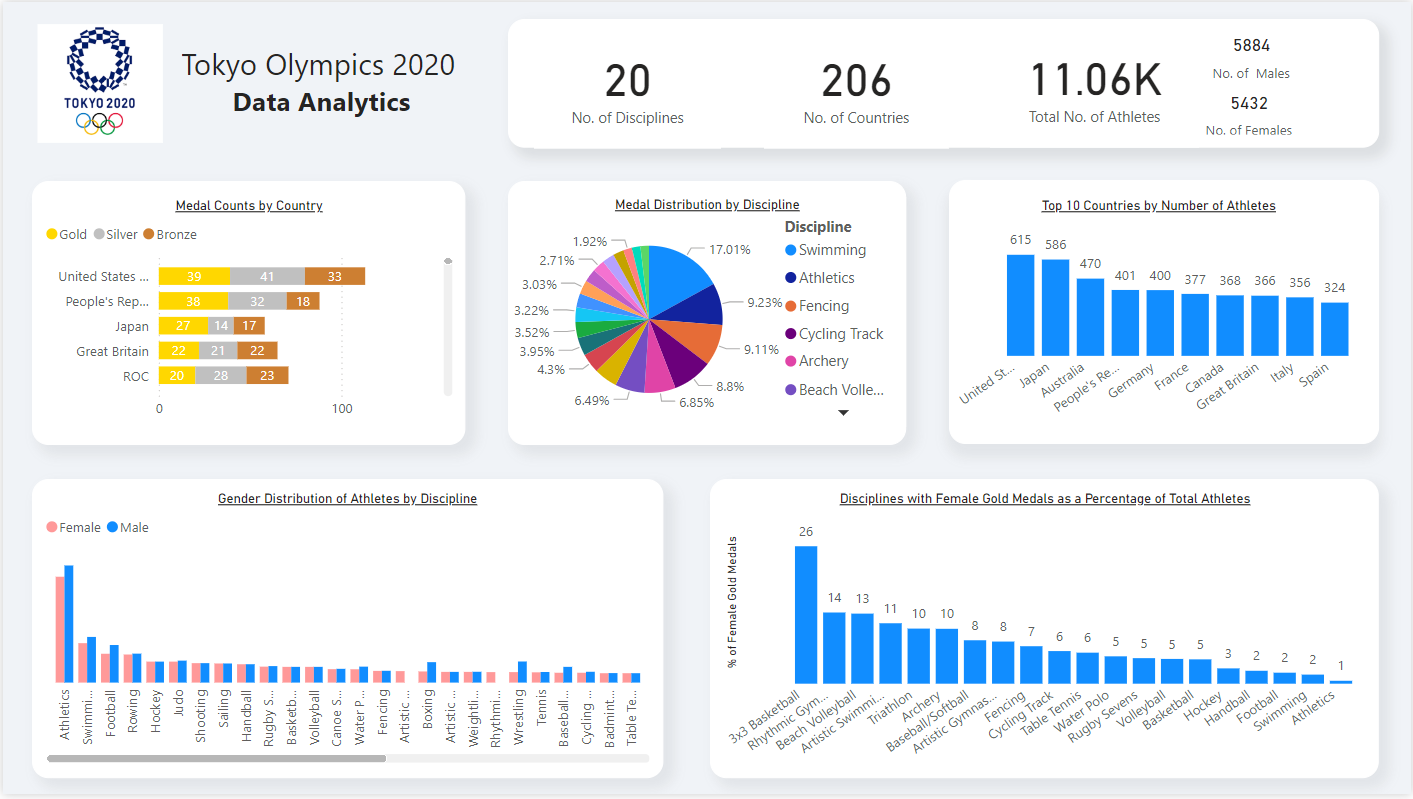

This screenshot's page, from the dashboard's own definition file:
{"tool":"powerbi","page":{"name":"Dashboard","canvas":[1280,720],"ordinal":0},"visuals":[{"type":"shape","box":[458.9,162.5,362.1,240.2],"z":0},{"type":"shape","box":[860.2,162.2,391.1,240.2],"z":1000},{"type":"shape","box":[643,433.8,608.3,272.5],"z":2000},{"type":"shape","box":[26.3,433.8,573.7,272.5],"z":3000},{"type":"shape","box":[458.9,15.5,792.4,117.1],"z":4000},{"type":"shape","box":[26.3,162.5,394.4,240.2],"z":5000},{"type":"card","fields":{"Values":["Query 3: Medal distribution by discipline.Discipline"]},"box":[483,16,170,117],"z":6000},{"type":"card","fields":{"Values":["Athletes.PersonName"]},"box":[897.6,15.5,190,117.1],"z":7000},{"type":"card","fields":{"Values":["Athletes.Country"]},"box":[692,16,168,117],"z":8000},{"type":"card","fields":{"Values":["EntriesGender.Male"]},"box":[1063.7,21.5,142.2,52.6],"z":9000},{"type":"card","fields":{"Values":["EntriesGender.Female"]},"box":[1058.9,74.1,147,51.4],"z":10000},{"type":"pieChart","title":"Medal Distribution by Discipline","fields":{"Category":["Query 3: Medal distribution by discipline.Discipline"],"Y":["Query 3: Medal distribution by discipline.TotalMedals"]},"box":[458.8,177.6,362.3,209.4],"z":11000},{"type":"columnChart","title":"Top 10 Countries by Number of Athletes","fields":{"Category":["Query 2: Top 10 countries by number of athletes.Country"],"Y":["Query 2: Top 10 countries by number of athletes.NumberOfAthletes"]},"box":[860.1,178.3,381.3,209.5],"z":12000},{"type":"barChart","title":"Medal Counts by Country","fields":{"Category":["Query 1: Medal Counts by Country.TeamCountry"],"Y":["Query 1: Medal Counts by Country.Gold","Query 1: Medal Counts by Country.Silver","Query 1: Medal Counts by Country.Bronze"]},"box":[33.5,178.1,380.1,209.2],"z":13000},{"type":"clusteredColumnChart","title":"Gender Distribution of Athletes by Discipline","fields":{"Category":["Query 4: Gender Distribution of Athletes by Discipline.Discipline"],"Y":["Query 4: Gender Distribution of Athletes by Discipline.FemaleAthletes","Query 4: Gender Distribution of Athletes by Discipline.MaleAthletes"]},"box":[33.5,444.6,559.3,252.2],"z":14000},{"type":"columnChart","title":"Disciplines with Female Gold Medals as a Percentage of Total Athletes","fields":{"Y":["Query 5: Disciplines with female gold medals as a percentage of total athletes.PercentageFemaleGoldMedals"],"Category":["Query 5: Disciplines with female gold medals as a percentage of total athletes.Discipline"]},"box":[652.5,444.6,589.2,252.2],"z":15000},{"type":"textbox","box":[157,15,263,124],"z":16000},{"type":"image","box":[26,9,124,130],"z":16001}]}

Visuals, with their boxes in screenshot pixels (x1, y1, x2, y2), scaled from the page's 1280x720 canvas onto the 1413x799 screenshot:
shape: 507/180/906/447
shape: 950/180/1381/447
shape: 710/481/1381/784
shape: 29/481/662/784
shape: 507/17/1381/147
shape: 29/180/464/447
card - Query 3: Medal distribution by discipline.Discipline: 533/18/721/148
card - Athletes.PersonName: 991/17/1201/147
card - Athletes.Country: 764/18/949/148
card - EntriesGender.Male: 1174/24/1331/82
card - EntriesGender.Female: 1169/82/1331/139
"Medal Distribution by Discipline" pieChart: 506/197/906/429
"Top 10 Countries by Number of Athletes" columnChart: 949/198/1370/430
"Medal Counts by Country" barChart: 37/198/457/430
"Gender Distribution of Athletes by Discipline" clusteredColumnChart: 37/493/654/773
"Disciplines with Female Gold Medals as a Percentage of Total Athletes" columnChart: 720/493/1371/773
textbox: 173/17/464/154
image: 29/10/166/154
